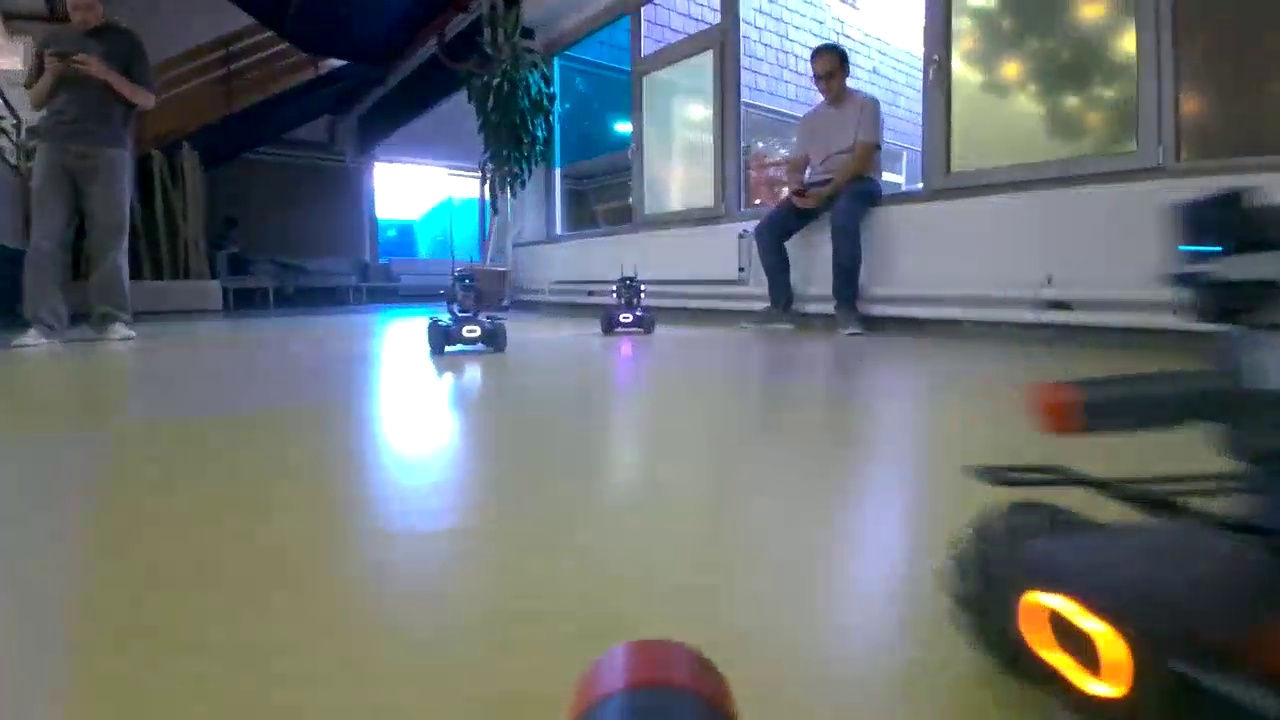robot: (965, 185, 1280, 700), (426, 268, 506, 354), (594, 275, 657, 336)
